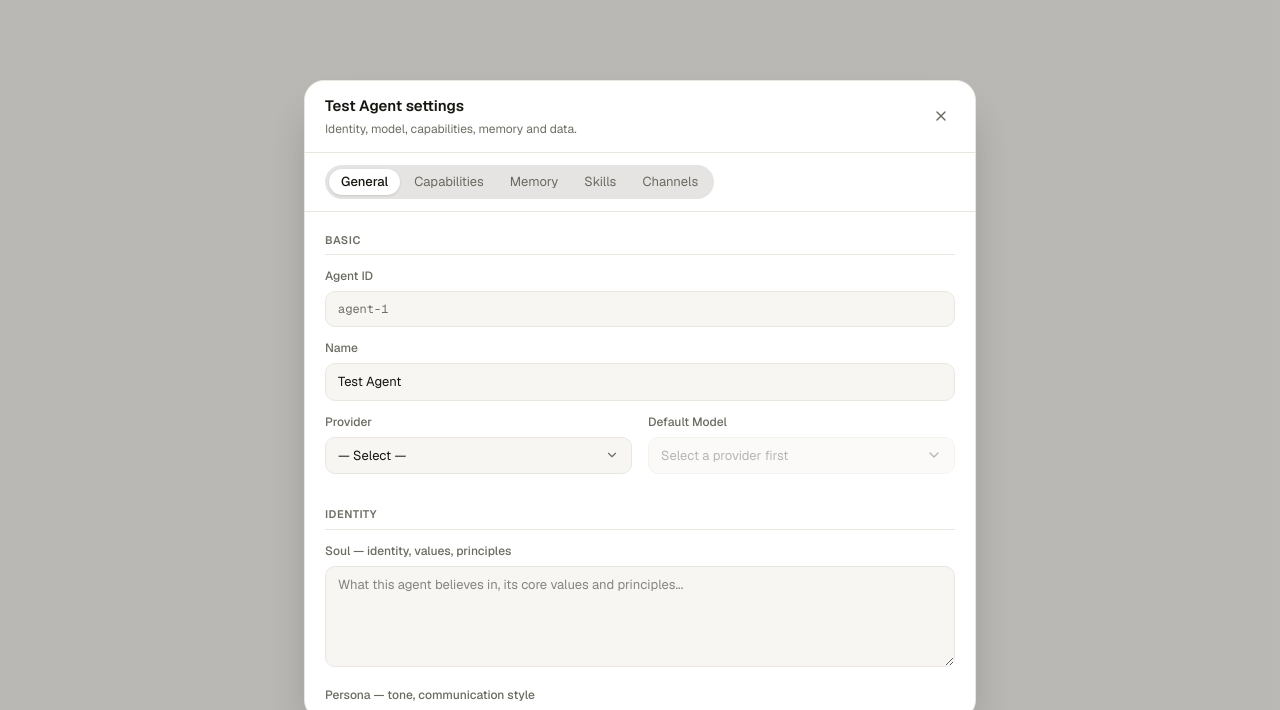
SettingsOverlay capabilities › shows a retryable error when a capability save is rejected by the API
What coordinates should you click on to do the following:
click the button "Capabilities"
I would click on:
 (449, 182)
Its box is [402,168,496,194].
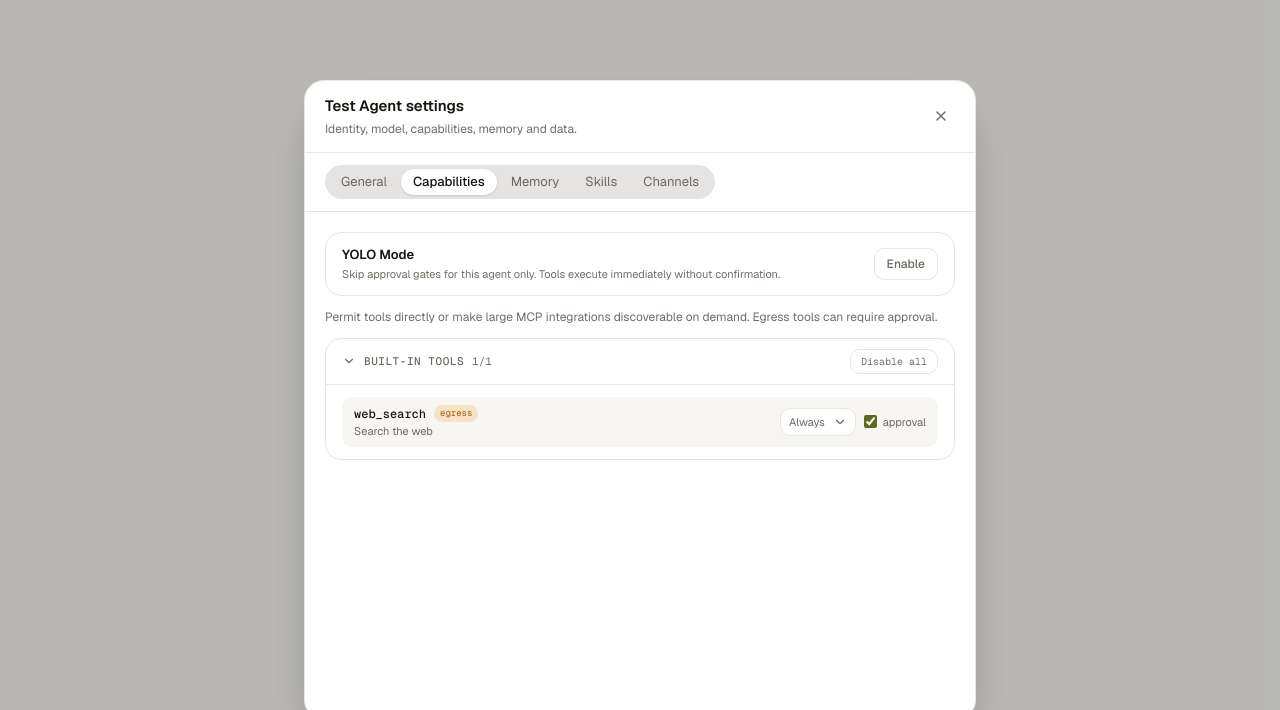
What coordinates should you click on to do the following:
click the checkbox labelled "approval"
I would click on:
 (870, 422)
Its box is [864,415,877,428].
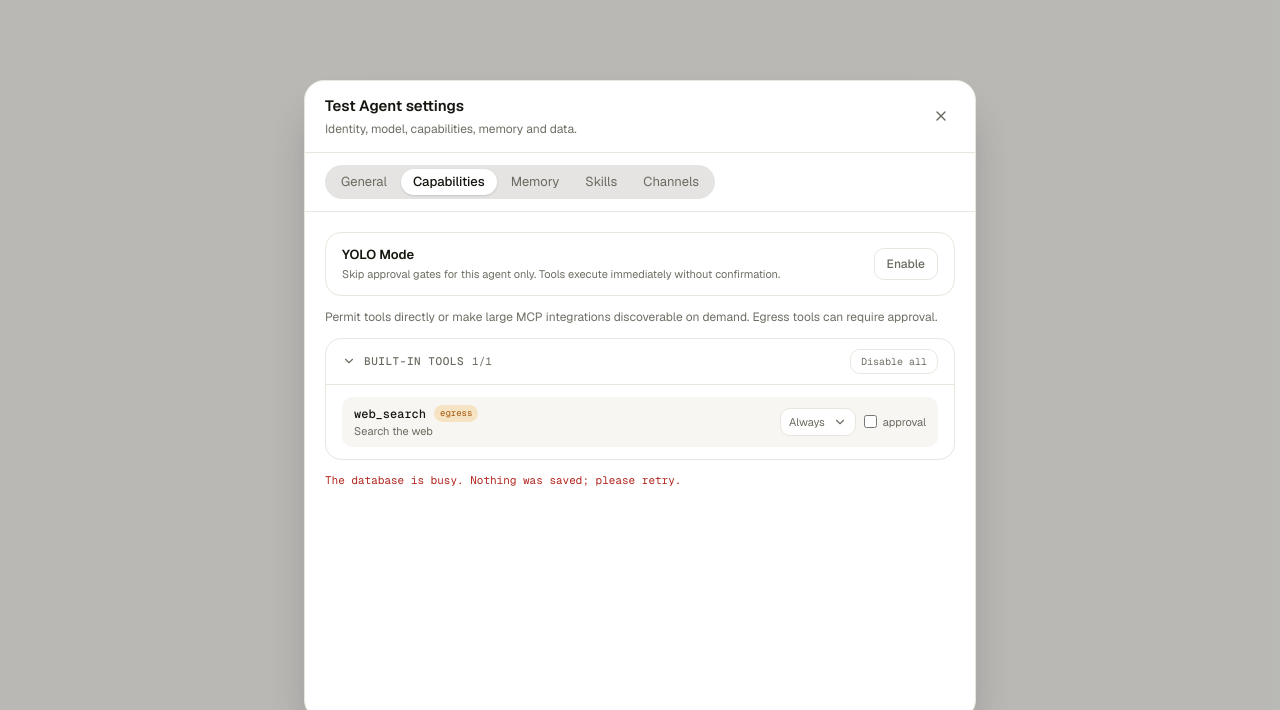
Check: the message shows "database is busy", box [325,473,681,487]
